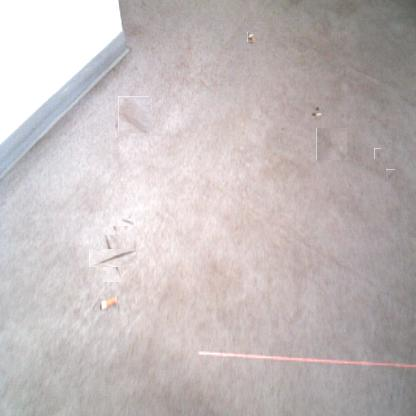dirty: (100, 296, 118, 312), (313, 108, 323, 118), (247, 33, 257, 42)
mark: (116, 98, 151, 132), (96, 242, 129, 275), (316, 128, 347, 160), (385, 169, 395, 182), (122, 217, 133, 228), (374, 148, 381, 159), (278, 125, 286, 133), (114, 226, 119, 234)
